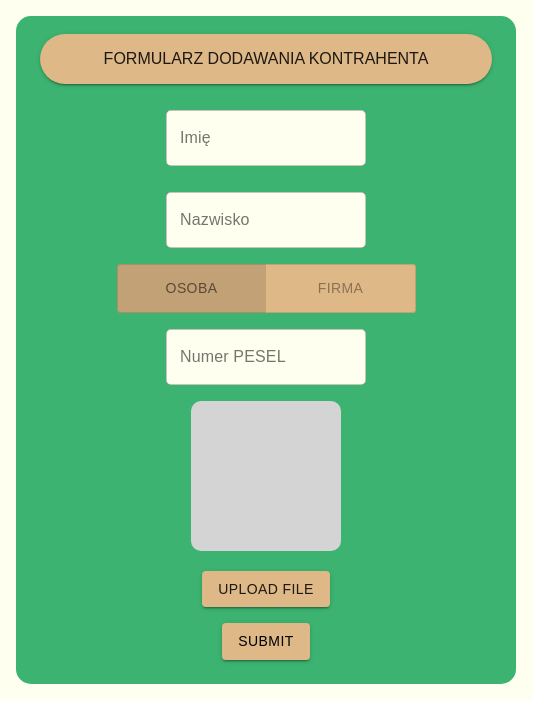
Test case: Integration tests › check toggle button right makes input with NIP
Step 1. Click the button with aria-label "right aligned" → (340, 288), box [266, 264, 416, 312]
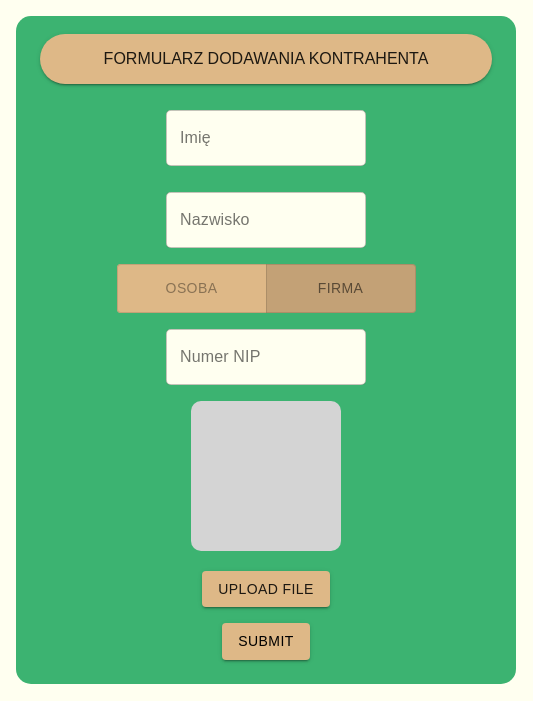
Check: the field with placeholder "NIP" is shown, box [166, 328, 366, 384]
